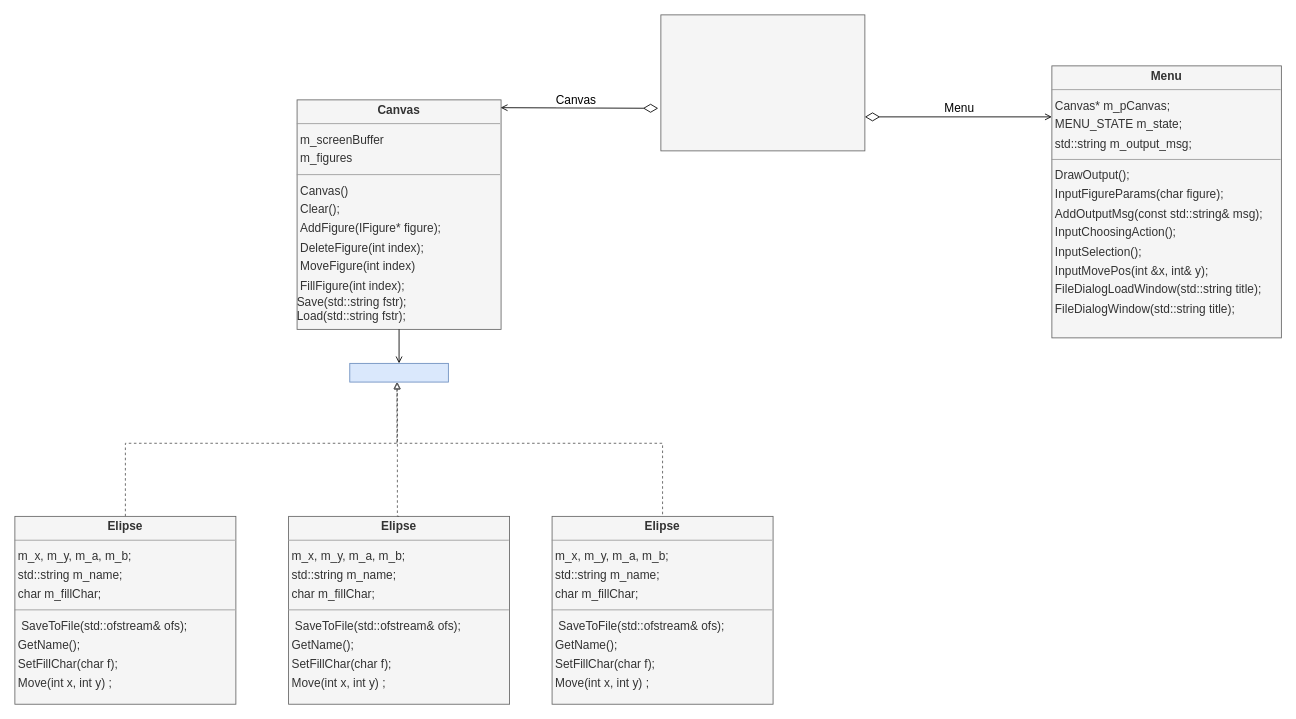
Image size: 1296x719. Some labels were removed from this diagram. Each missing label, with the centre of its shape:
"ICommand" belongs at (x=398, y=372).
"Renderer Canvas m_canvas; Menu m_menu; Render();" belongs at (x=762, y=82).
